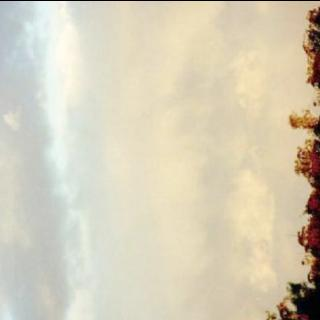Nimbostratus: (1, 0, 314, 320)
